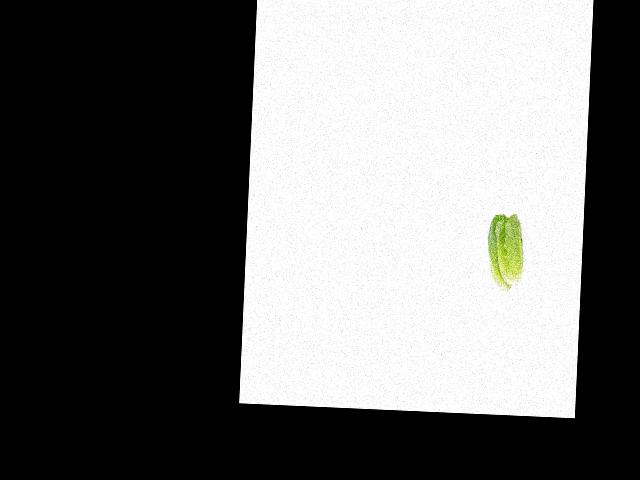lettuce: (485, 211, 530, 291)
